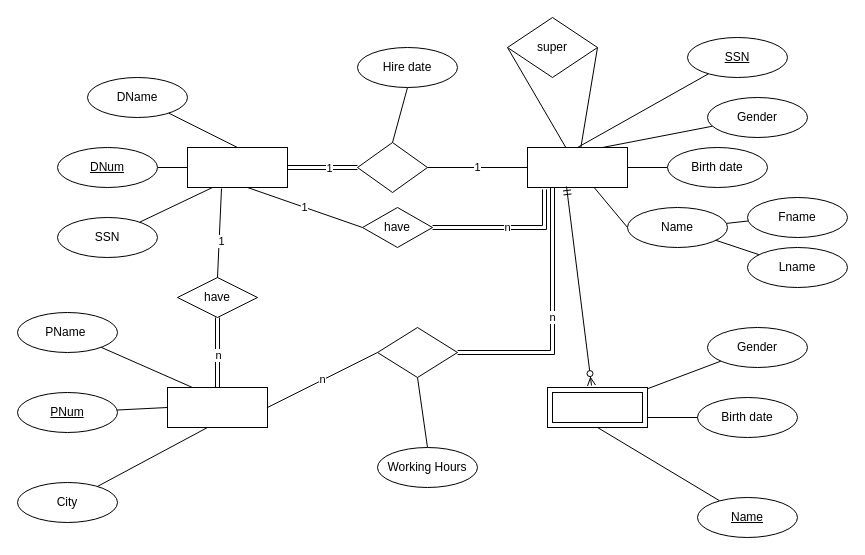
Some shapes in this 865 by 555 pixel diagram are drawn without their labels. The shapes that lost their labels are listed below. From the top down, each one's box as (x1, y1, x2, y2) in pixels, then its label:
(186, 146, 288, 188): Department
(356, 142, 428, 192): manage
(526, 146, 628, 188): Employee
(376, 326, 458, 378): work
(166, 386, 268, 428): Project
(546, 386, 648, 428): dependent
